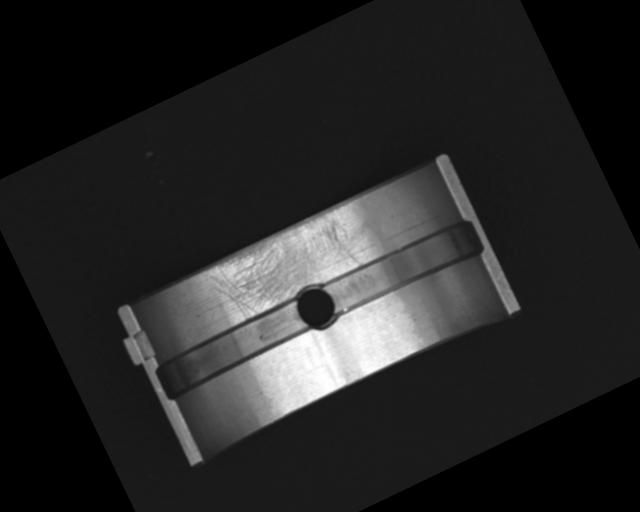gap: (319, 213, 485, 321), (151, 300, 311, 400)
hole: (290, 279, 342, 337)
scratch: (204, 201, 374, 328)
